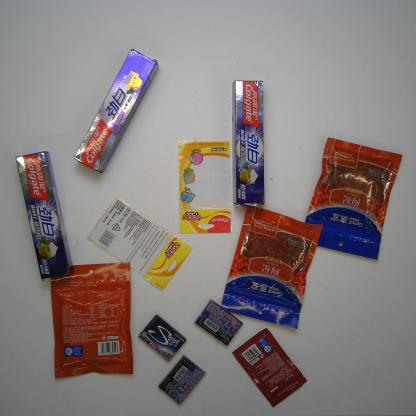Dried Fruit: (301, 134, 404, 262), (220, 202, 323, 329), (51, 260, 136, 381)
Gum: (136, 313, 188, 361), (193, 298, 244, 346), (159, 356, 206, 406)
Personal Hygiene: (74, 47, 160, 175), (13, 146, 76, 284), (232, 76, 266, 209)
Seasoner: (232, 326, 308, 409)
Stationery: (82, 195, 192, 292), (177, 138, 236, 236)
